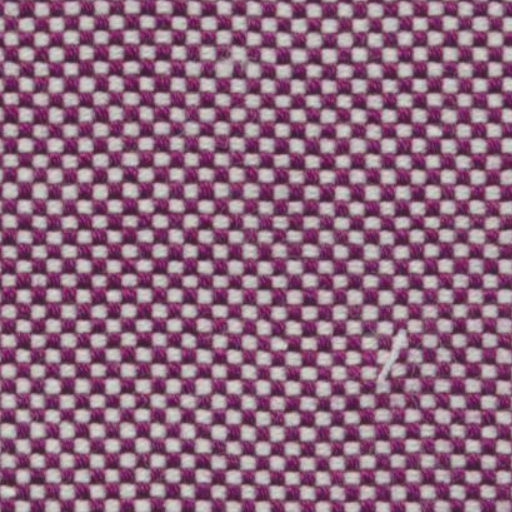DuanSha: (368, 322, 421, 402)
